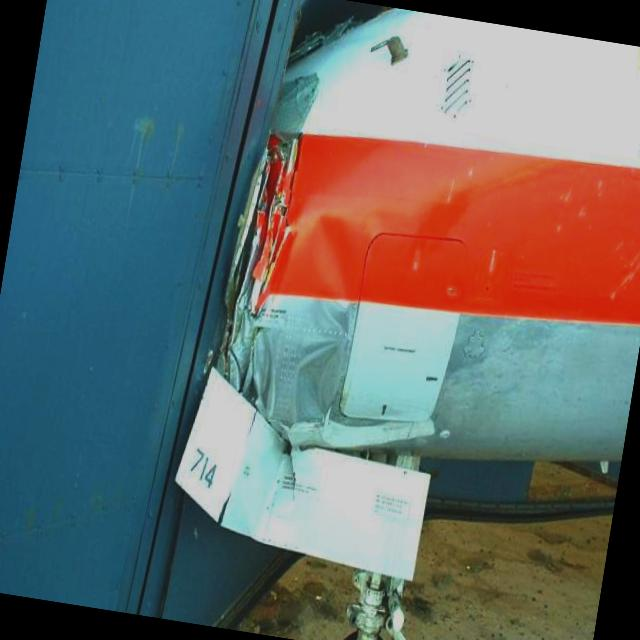dent: (272, 206, 376, 457)
